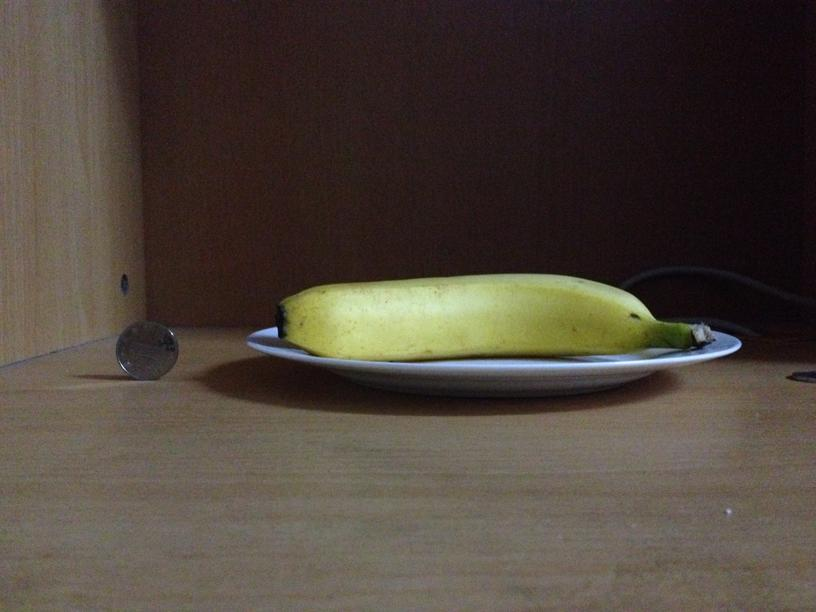banana: (278, 273, 667, 357)
coin: (112, 320, 180, 380)
